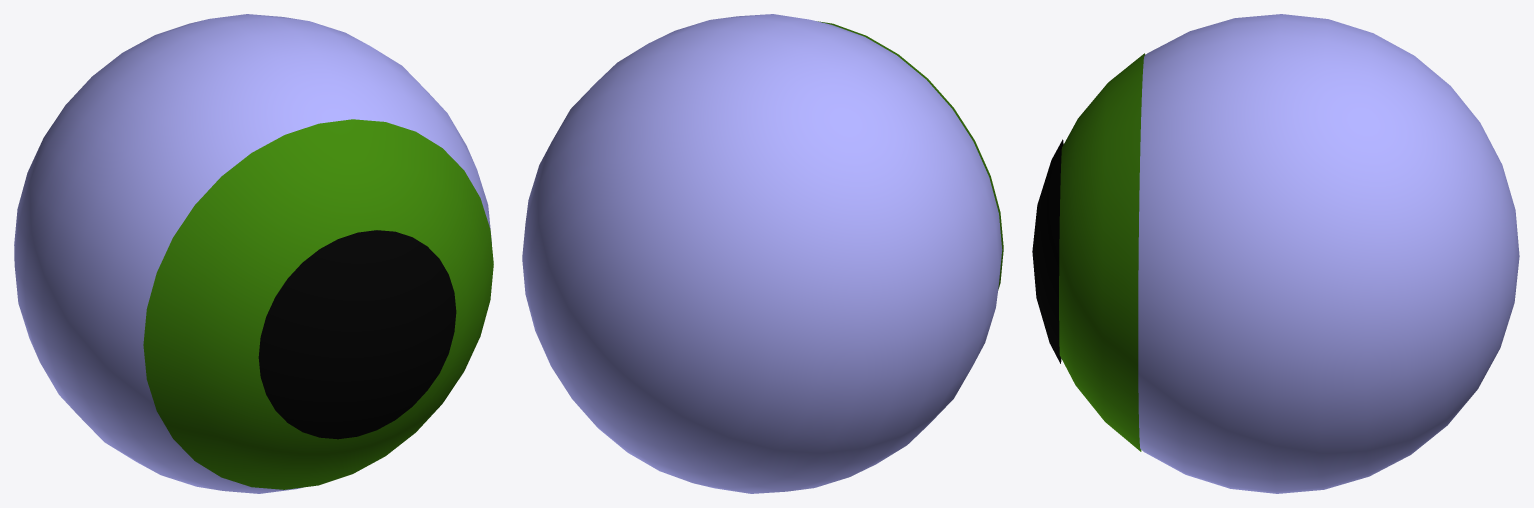
File: Eye_Am_Idle_Babeh.obj
The picture shows the model from 3 angles, left to right: view 1: azimuth 30°, elevation 25°; view 2: azimuth 150°, elevation 25°; view 3: azimuth 270°, elevation 25°; orthographic projection.
Parts seen in each view (by area): view 1: Eye; view 2: Eye; view 3: Eye.
Part boxes in pixels (x1,y1,x2,y2): Eye: (14, 14, 493, 493); Eye: (522, 14, 1003, 493); Eye: (1032, 14, 1519, 493).
Size of the model in its own units: 60.22 by 60.24 by 61.08.
